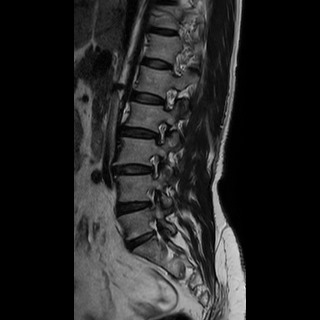RFS0: (153, 82, 181, 115), (147, 115, 173, 148)
RFS1: (138, 184, 163, 217), (143, 150, 164, 183)
